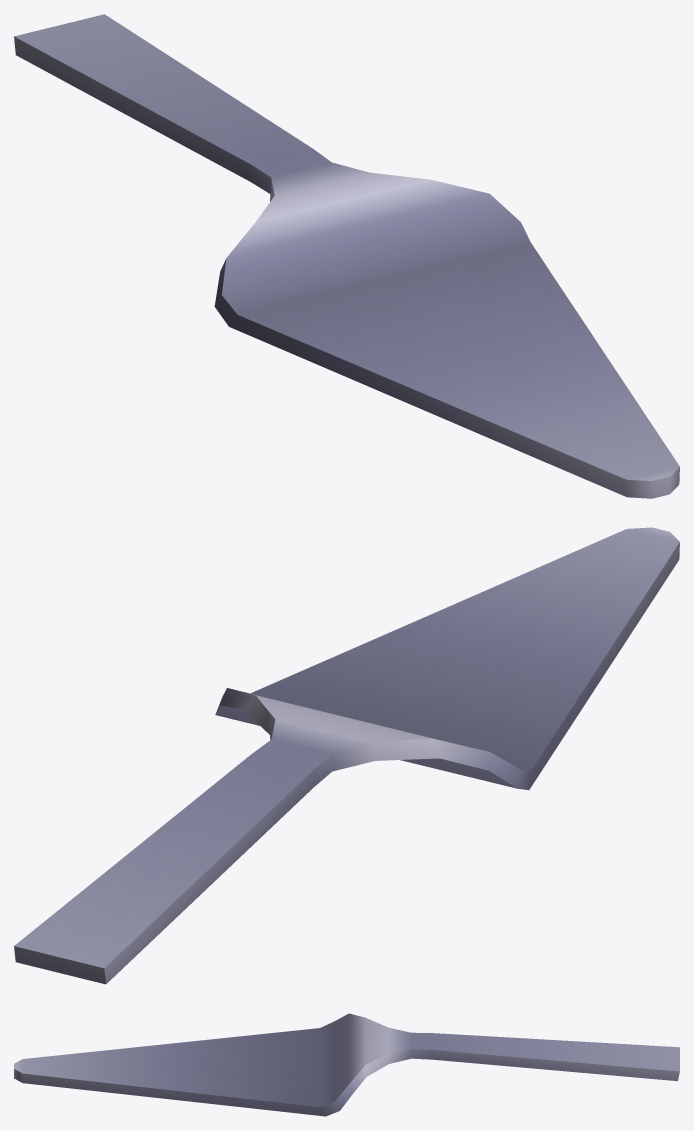
The model's file is m_CakeServer01.fbx.
3 views of the same model, one above another, from view 1: azimuth 30°, elevation 25°; view 2: azimuth 150°, elevation 25°; view 3: azimuth 270°, elevation 25° (orthographic). The views are drawn at different scales.
Parts seen in each view (by area): view 1: m_CakeServer01; view 2: m_CakeServer01; view 3: m_CakeServer01.
Part boxes in pixels (box(x1,y1,x2,y2)): m_CakeServer01: box(14, 14, 679, 498); m_CakeServer01: box(14, 527, 679, 984); m_CakeServer01: box(14, 1013, 679, 1116).
Size of the model in its own units: 7.94 by 1.61 by 27.34.
